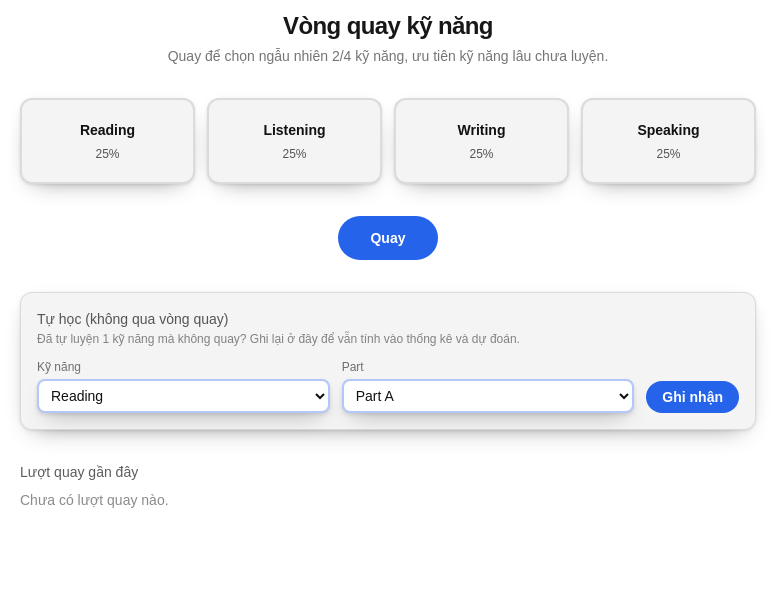
Test: Spinner › shows an error and re-enables the button when the roll request fails
What coordinates should you click on to do the following:
click the button "Quay"
I would click on:
 (388, 238)
Its box is [338,216,438,260].
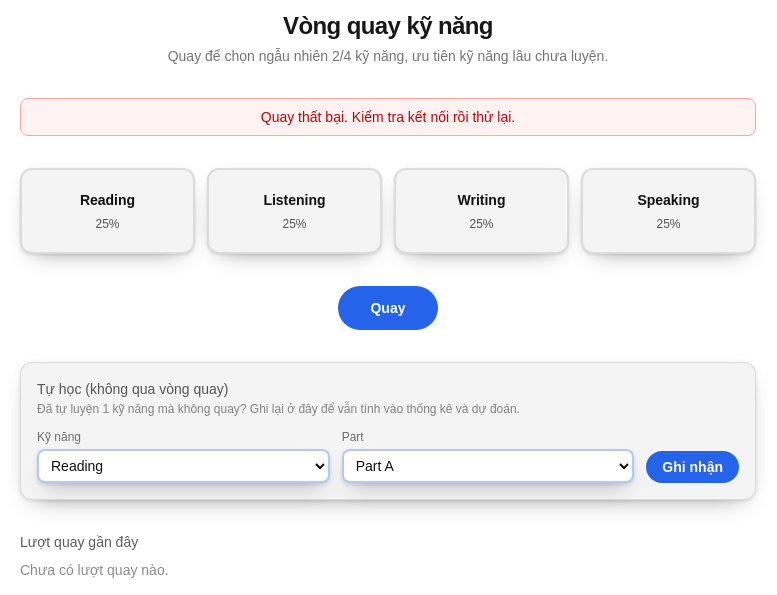
Expected: the button "Quay" is enabled, [338,286,438,330]
Expected: the message shows "Quay thất bại", [261,109,515,125]
